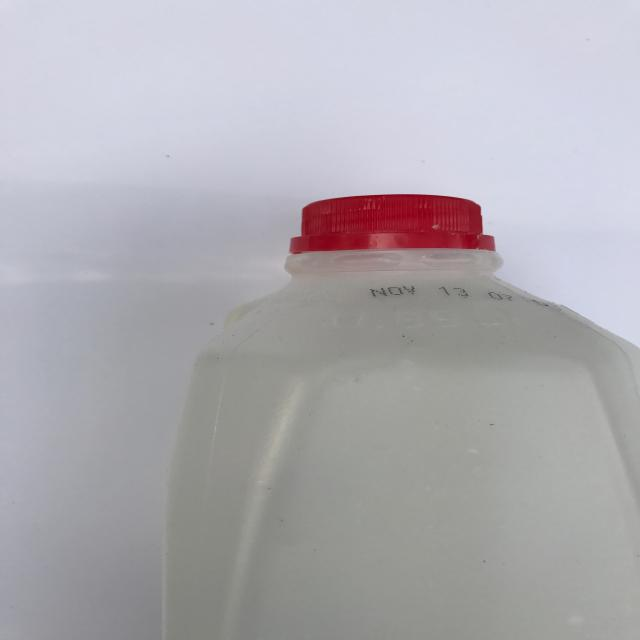Plastic: (151, 181, 640, 640)
